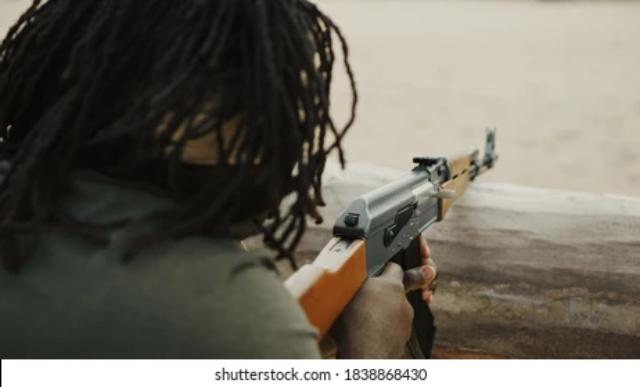other: (0, 0, 324, 361)
